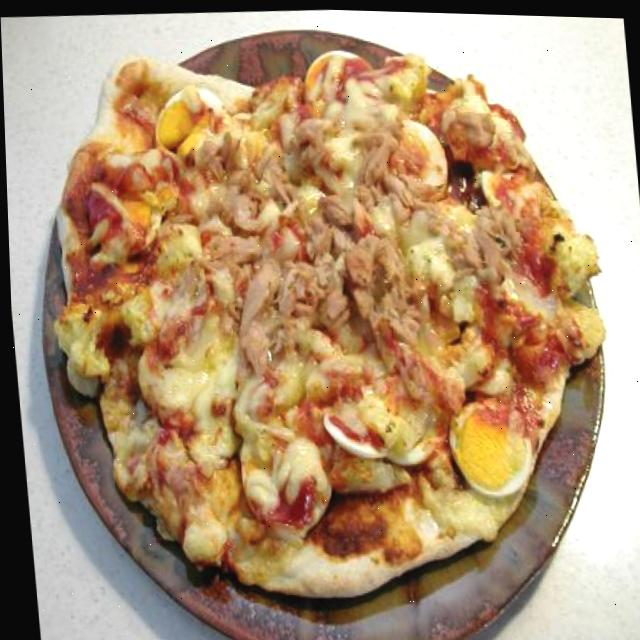汉堡快餐: (10, 0, 640, 640)
